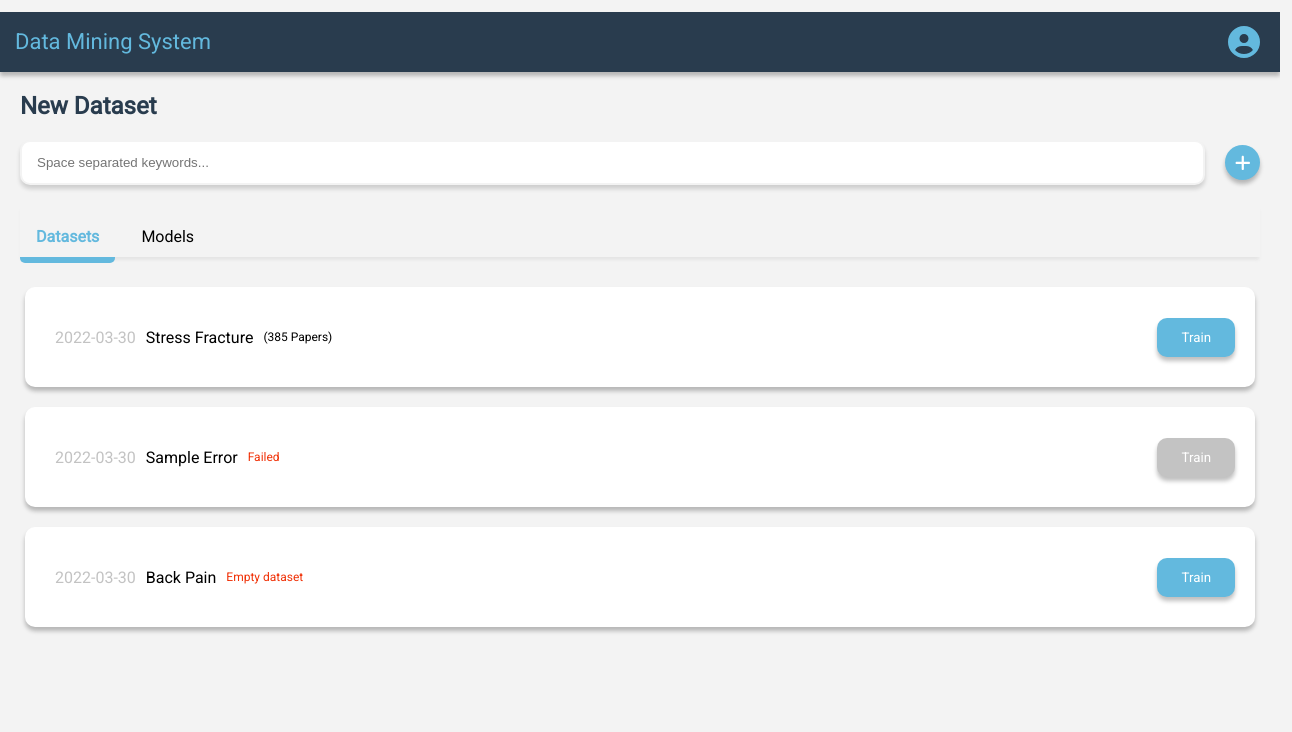
Test case: Hyperparameter Adjustment Page › White box tests › should show 'Please complete all fields' message if not all fields are filled in
The image size is (1292, 732).
Click the button "Train" in the row of "Papers)" at (1196, 338), box 1157,318 -> 1235,357
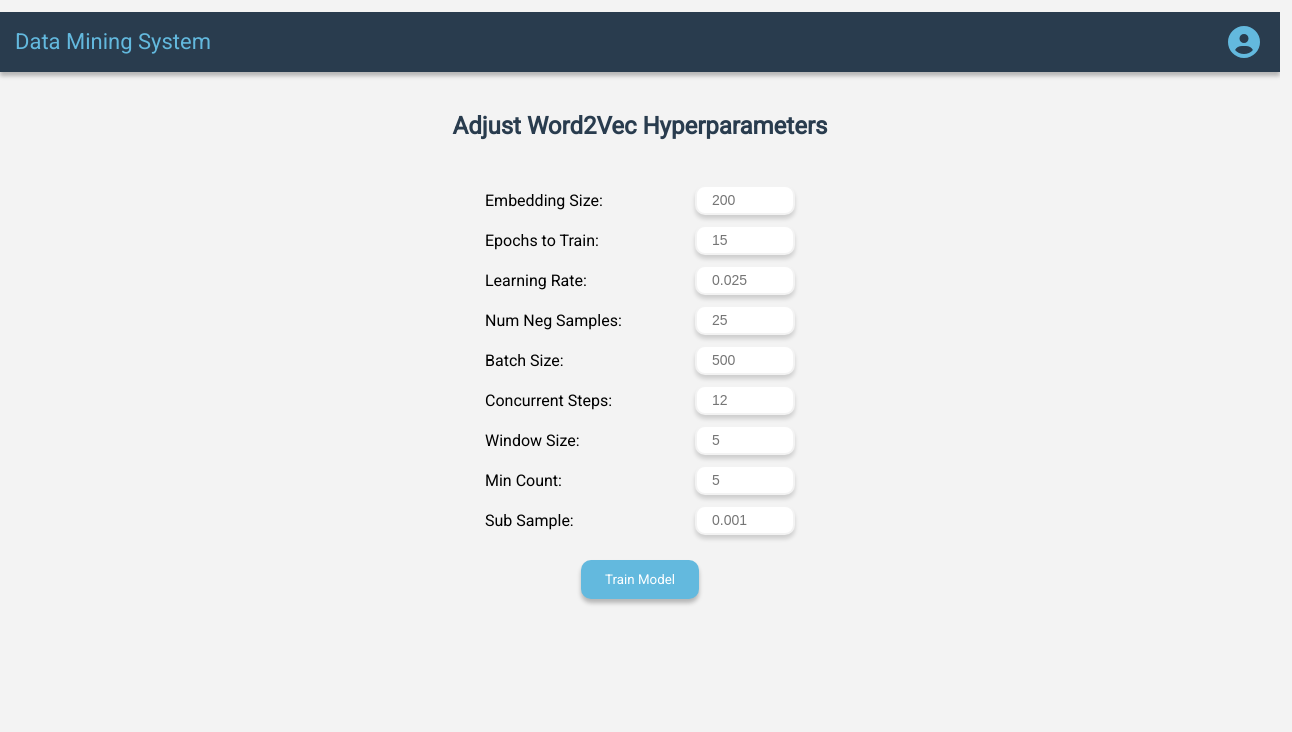
Click the button "Train Model" at (640, 580), box 581,560 -> 699,599
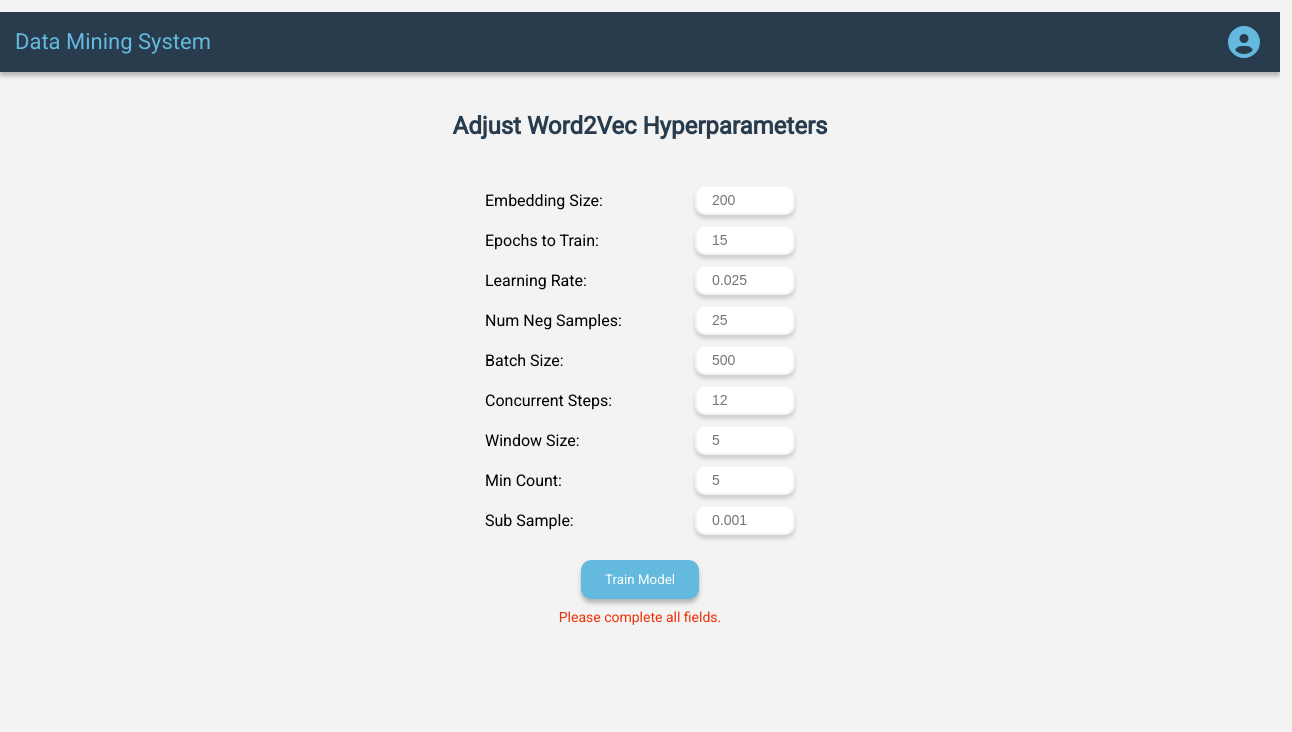
Check: the text "Please complete all fields." is shown, box 559,609 -> 721,625
